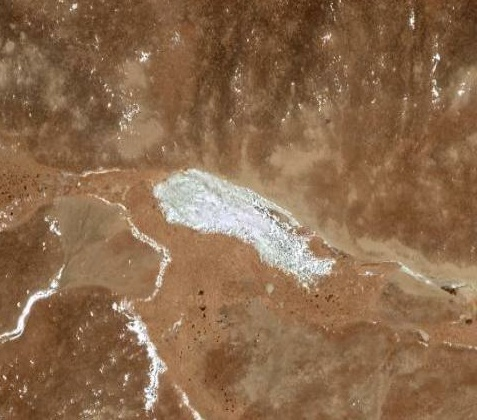slope: (150, 166, 335, 293)
